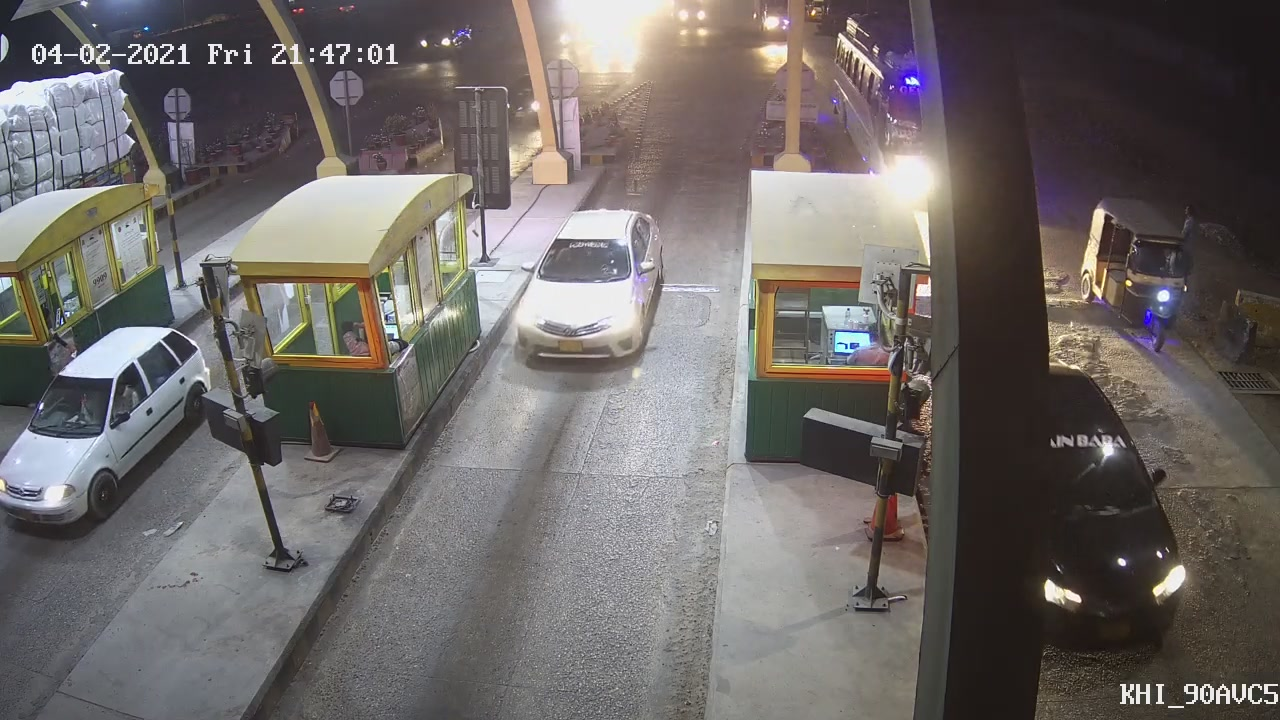F1: (511, 207, 675, 366)
